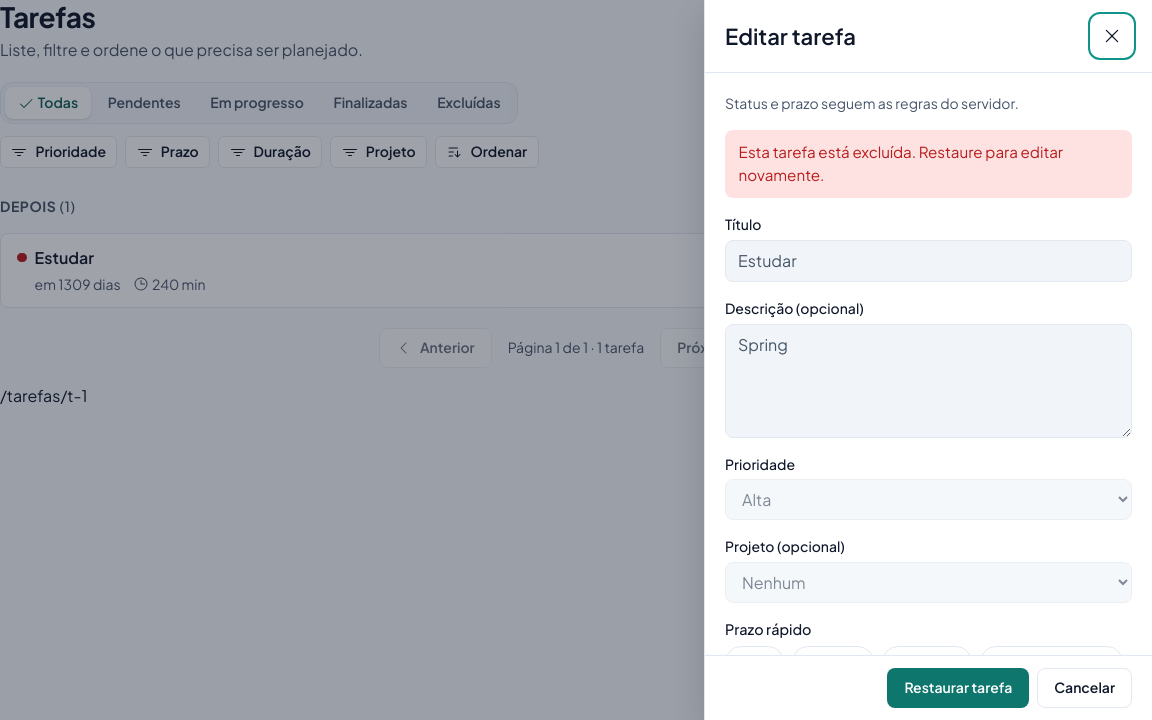
Scenario: TarefaDrawer › excluir, restaurar e projeto › mostra restaurar quando a tarefa está deletada e restaura
Expected: the text "Esta tarefa está excluída. Restaure para editar novamente." is shown, x1=725 y1=130 x2=1132 y2=198
Expected: the button "excluir tarefa" is not shown
Click the button "Restaurar tarefa": (958, 688) x1=887 y1=668 x2=1029 y2=708
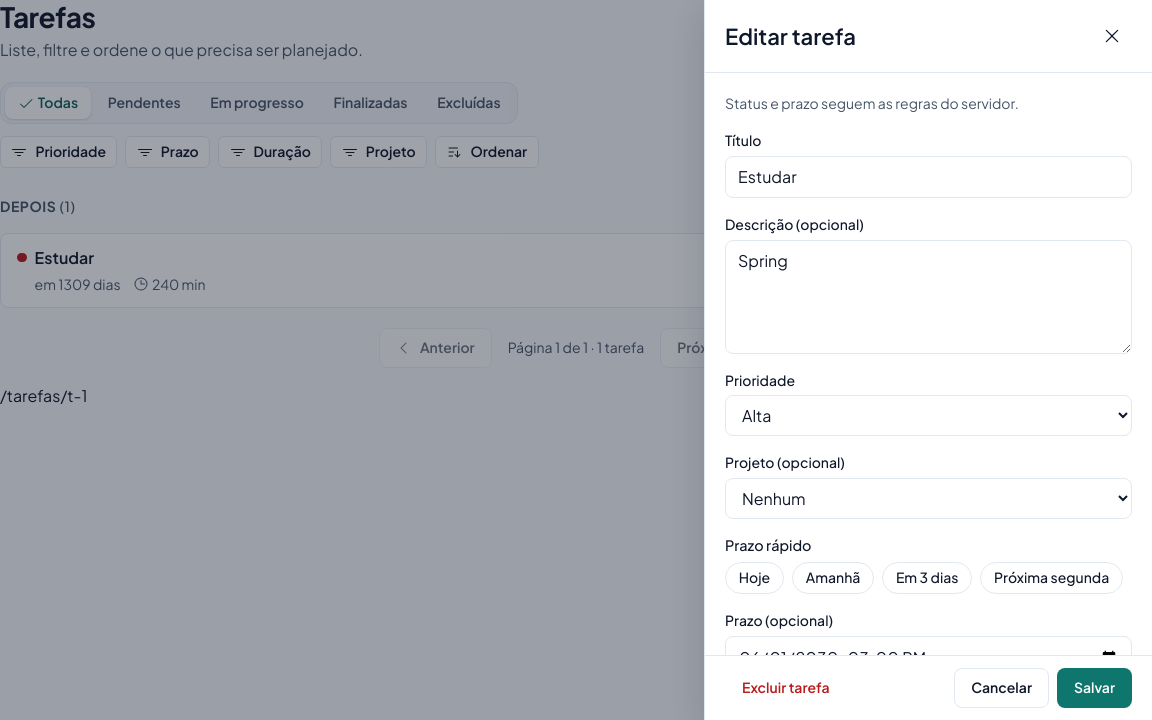
Now the button "Salvar" is shown, box x1=1057 y1=668 x2=1132 y2=708
